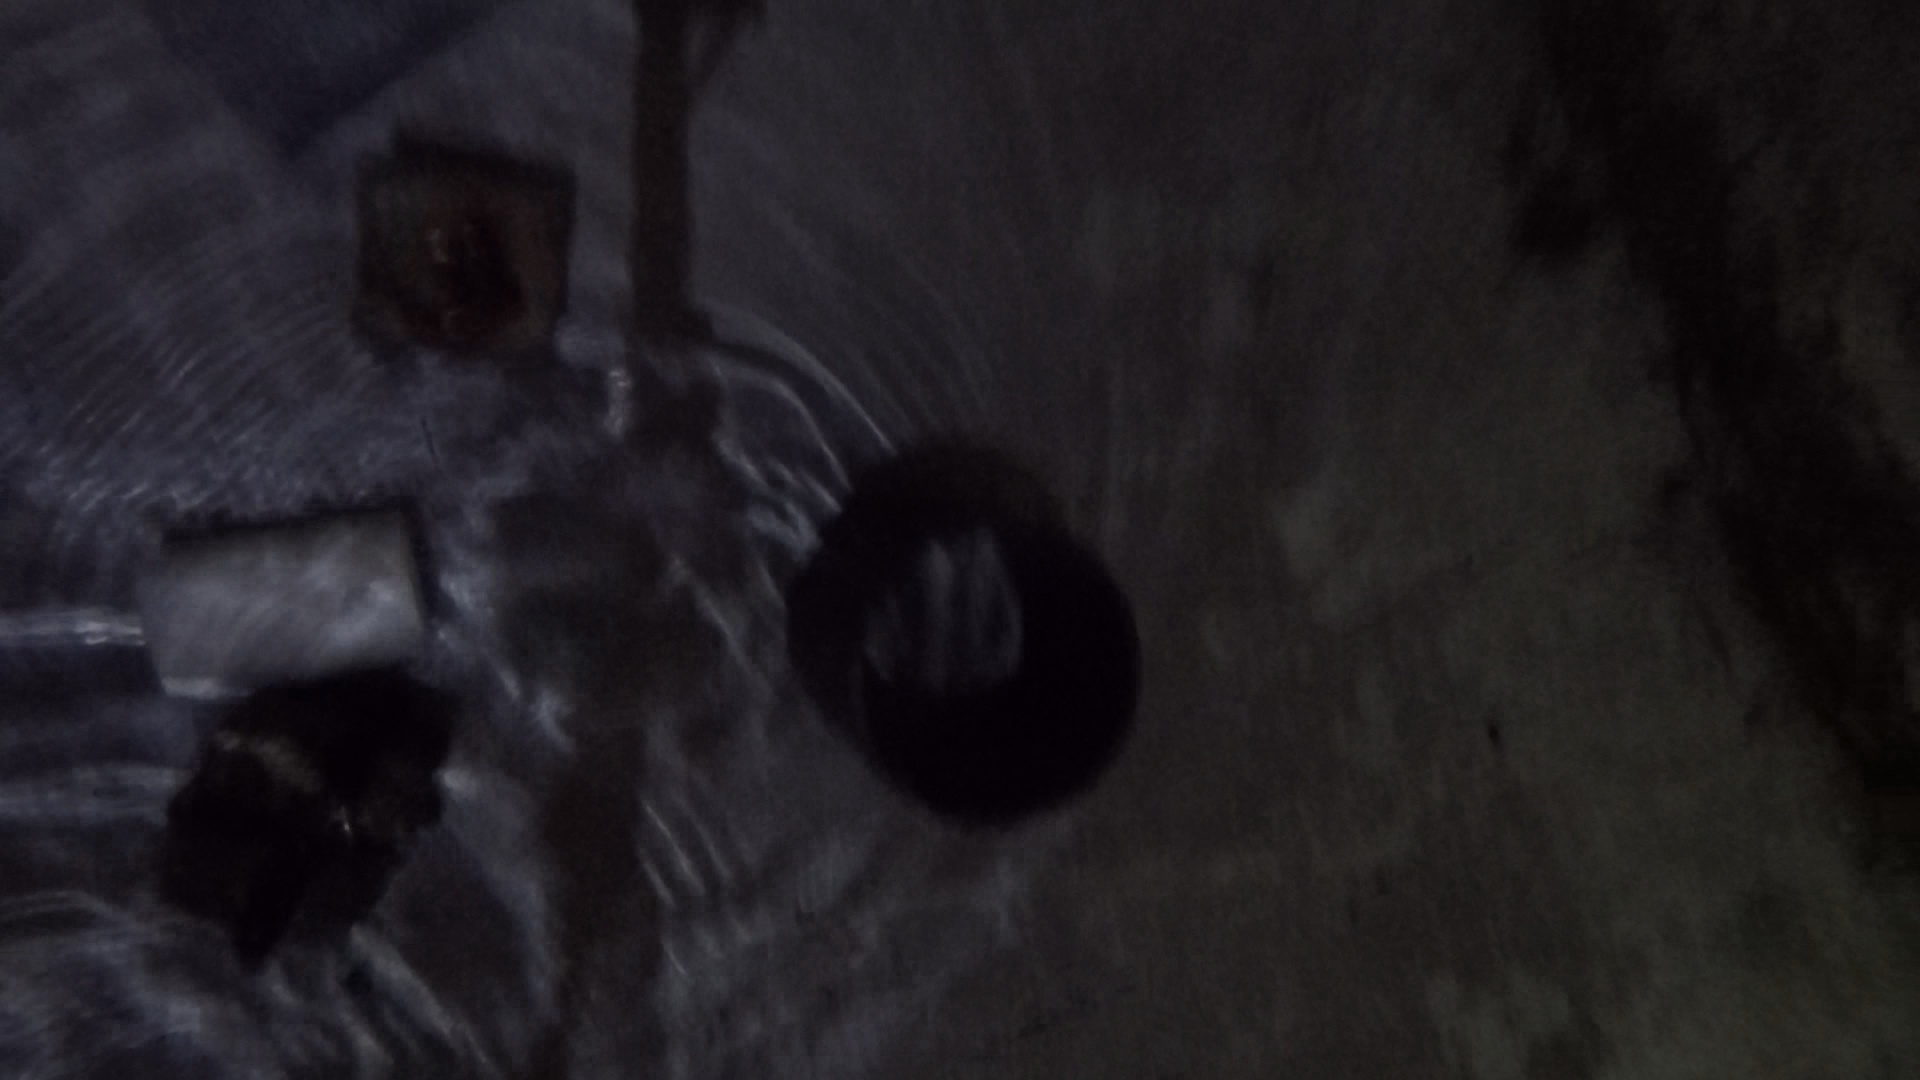led_block: (156, 702, 422, 973), (339, 157, 575, 359)
pipe: (785, 472, 1145, 827), (136, 504, 433, 702), (146, 1, 495, 157)
